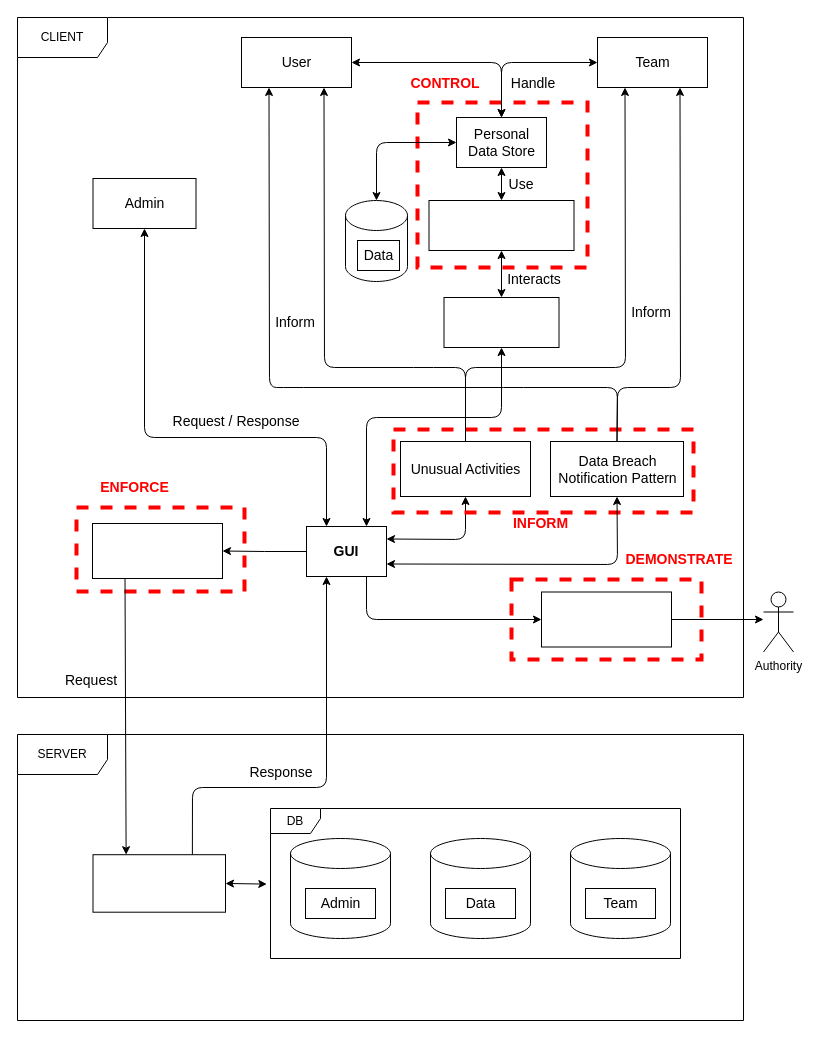
The diagram is 819 pixels wide and 1038 high, and some of its shapes have lost their labels. Each missing label, with the box of its shape:
Authenticator: (443, 296, 559, 348)
Encription with user managed key: (428, 200, 574, 250)
Federated Privacy Assessment: (540, 591, 672, 647)
Sticky Policies: (92, 522, 222, 578)
Web Accessible Files (web server): (92, 854, 226, 912)
